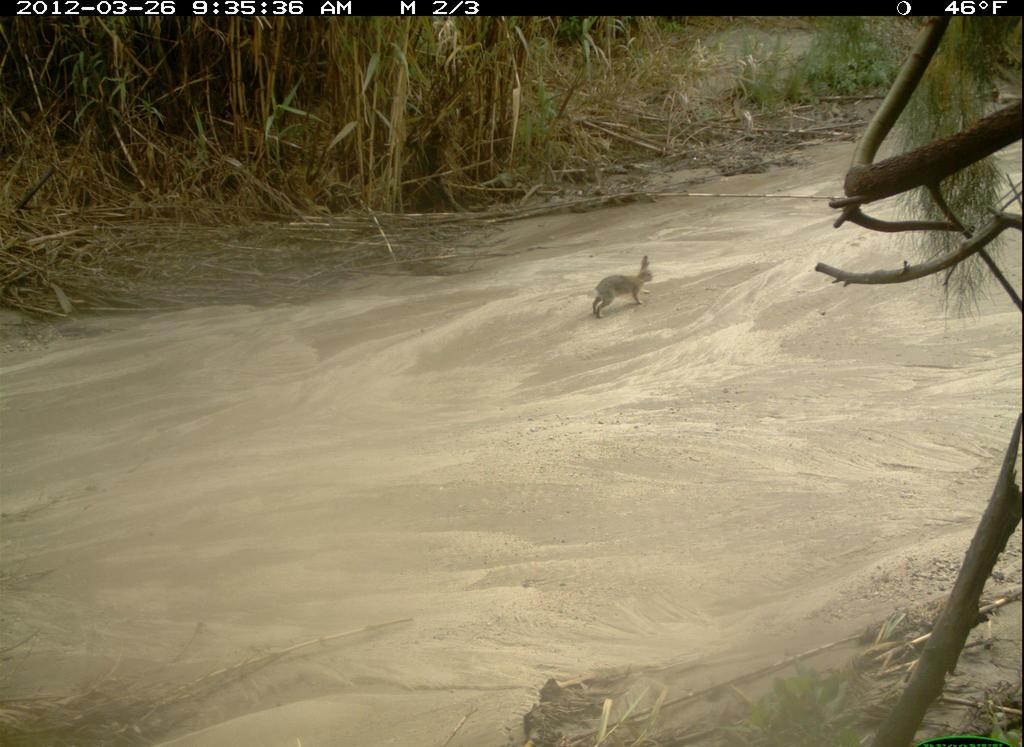rabbit: (588, 255, 666, 329)
